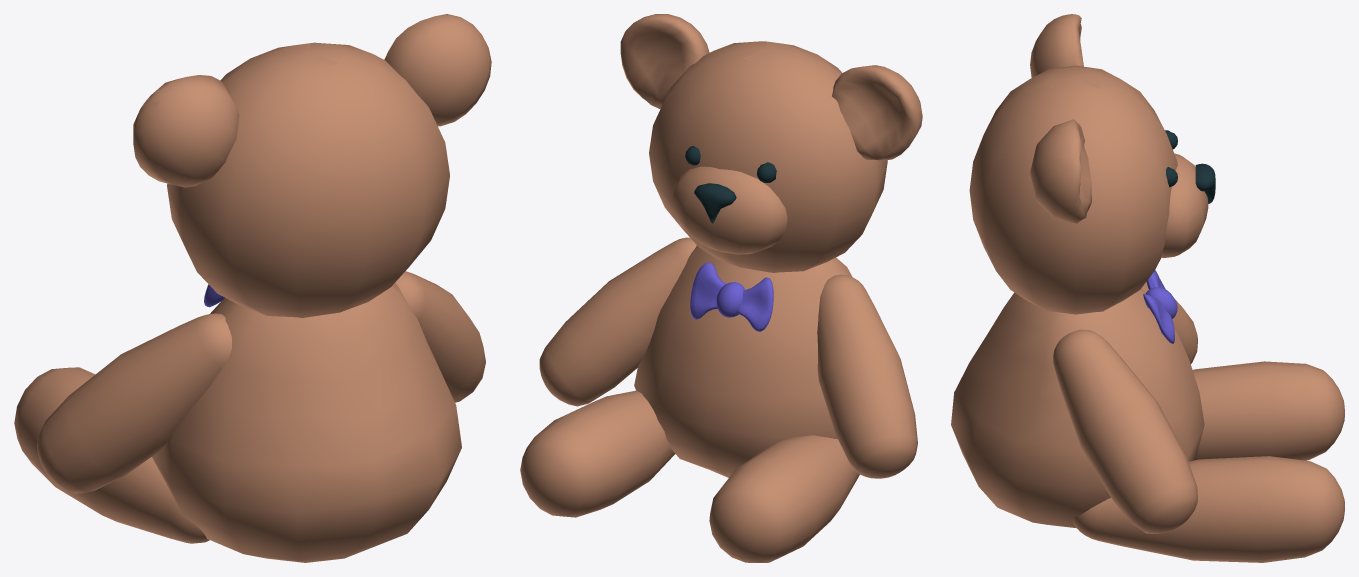
File: Oso.fbx
The picture shows the model from 3 angles, left to right: view 1: azimuth 30°, elevation 25°; view 2: azimuth 150°, elevation 25°; view 3: azimuth 270°, elevation 25°; orthographic projection. The views are drawn at different scales.
Visible parts, largest first — view 1: Osito; view 2: Osito; view 3: Osito.
Boxes of the visible parts, x1,y1,x2,y2 form: Osito: (14,14,491,562); Osito: (520,14,922,562); Osito: (951,14,1344,562).
Bounding box in the file's own units: 1.06 × 0.9391 × 1.17.
